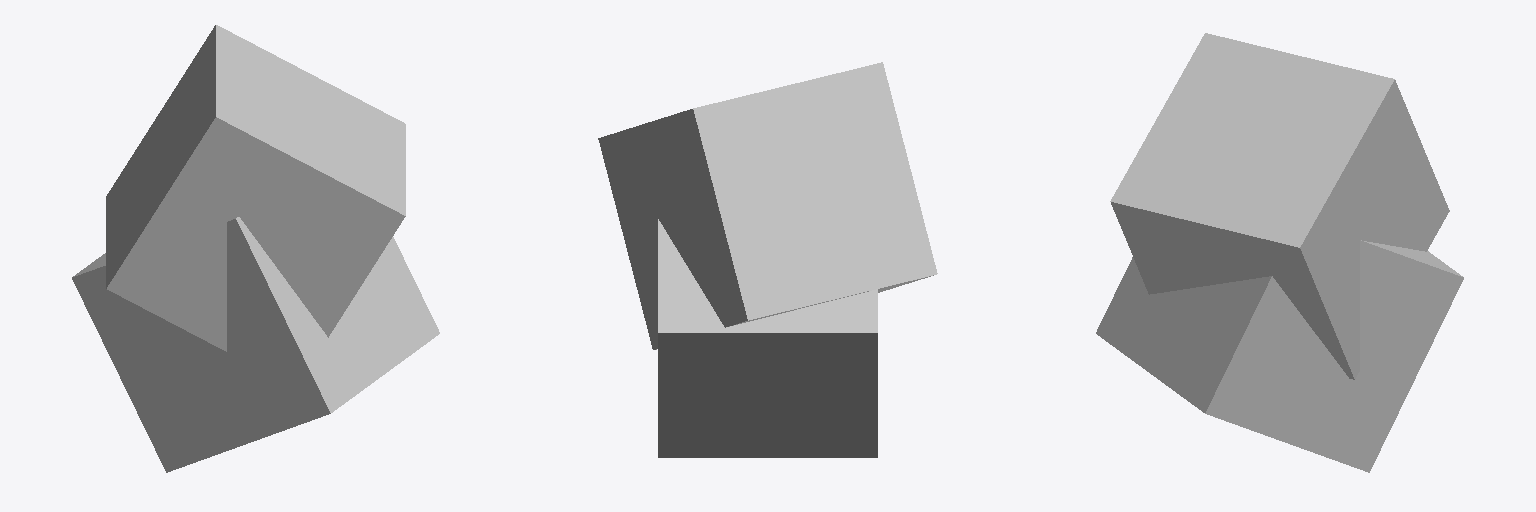
File: Cubes.obj
3 views of the same model, side by side, from view 1: azimuth 30°, elevation 25°; view 2: azimuth 150°, elevation 25°; view 3: azimuth 270°, elevation 25° (orthographic).
Visible parts, largest first — view 1: UpperCube_Cube.001, LowerCube_Cube; view 2: UpperCube_Cube.001, LowerCube_Cube; view 3: UpperCube_Cube.001, LowerCube_Cube.
Boxes of the visible parts, box(x1,y1,x2,y2) form: UpperCube_Cube.001: box(106, 25, 405, 351); LowerCube_Cube: box(72, 217, 439, 472); UpperCube_Cube.001: box(598, 62, 937, 349); LowerCube_Cube: box(658, 219, 877, 457); UpperCube_Cube.001: box(1110, 33, 1449, 379); LowerCube_Cube: box(1096, 240, 1463, 472).
Size of the model in its own units: 3.37 by 3.73 by 3.37.